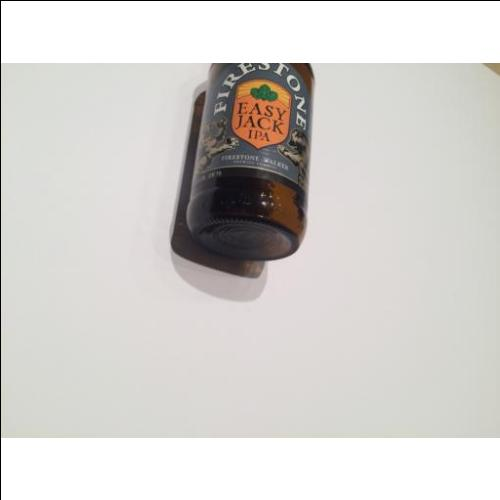glass: (184, 62, 317, 265)
